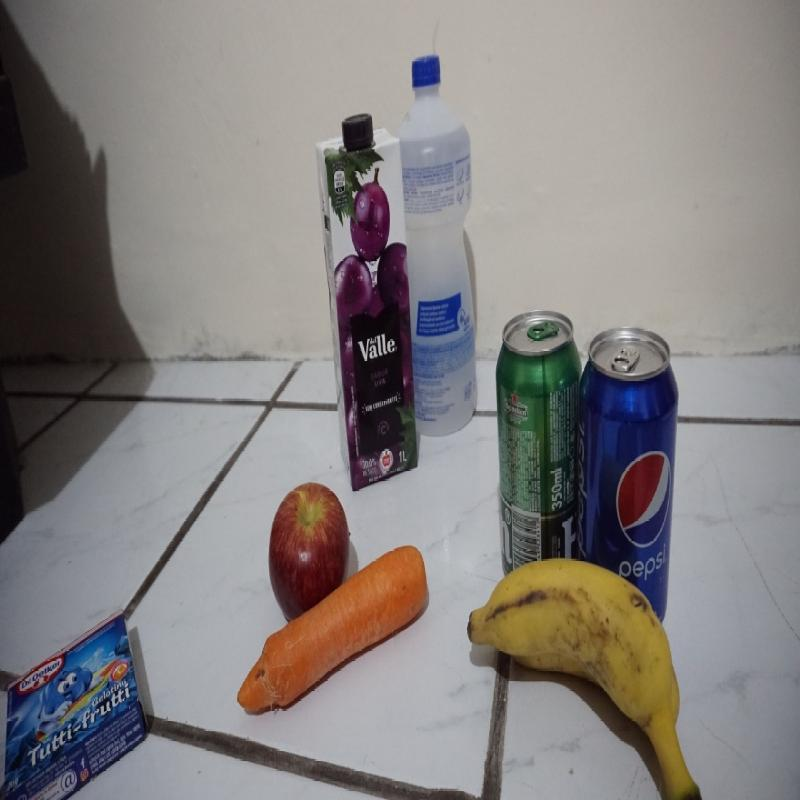Alcohol Bottle: (398, 55, 479, 438)
Apple: (268, 483, 350, 625)
Banana: (465, 556, 700, 798)
Beer can: (494, 308, 580, 602)
Carrot: (236, 543, 428, 718)
Gelatine: (5, 608, 148, 796)
Soda can: (581, 324, 682, 643)
